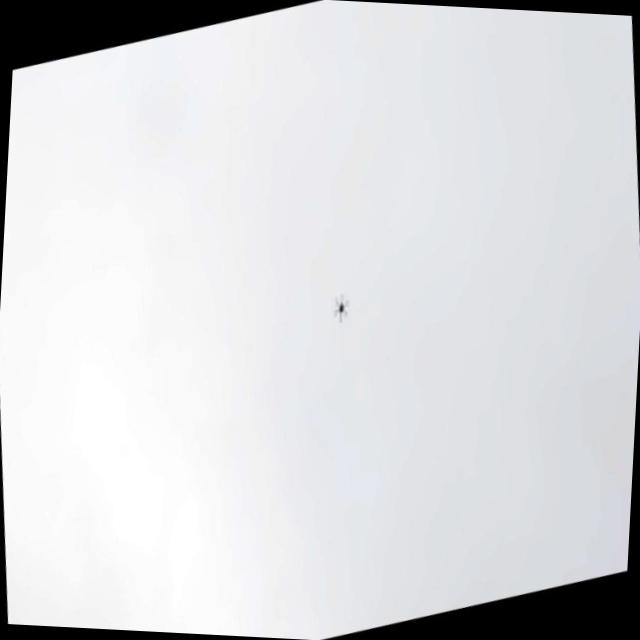drone: (328, 284, 355, 330)
